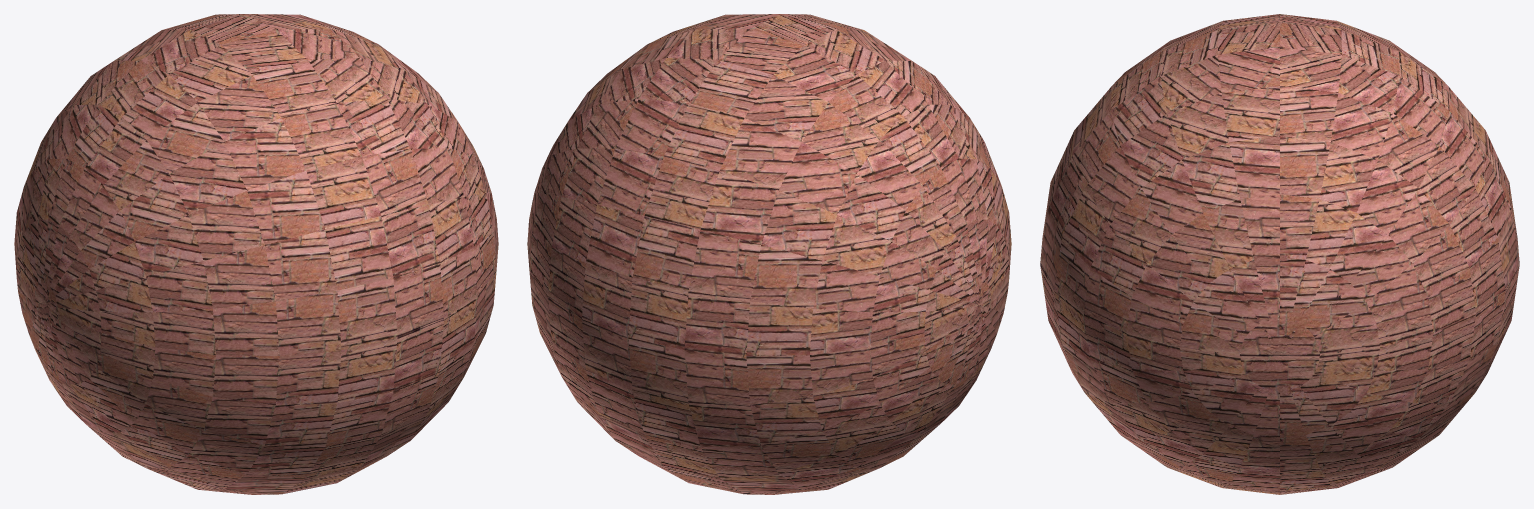
The model's file is dodgeBall.obj.
3 renders of one model, left to right at view 1: azimuth 30°, elevation 25°; view 2: azimuth 150°, elevation 25°; view 3: azimuth 270°, elevation 25°, orthographic.
Visible parts, largest first — view 1: Mesh2 Dodgeball1 Model; view 2: Mesh2 Dodgeball1 Model; view 3: Mesh2 Dodgeball1 Model.
Boxes of the visible parts, x1,y1,x2,y2 form: Mesh2 Dodgeball1 Model: [14, 14, 498, 494]; Mesh2 Dodgeball1 Model: [527, 14, 1011, 494]; Mesh2 Dodgeball1 Model: [1040, 14, 1519, 494].
Size of the model in its own units: 3.36 by 3.36 by 3.36.
1 material, 1 textured.
